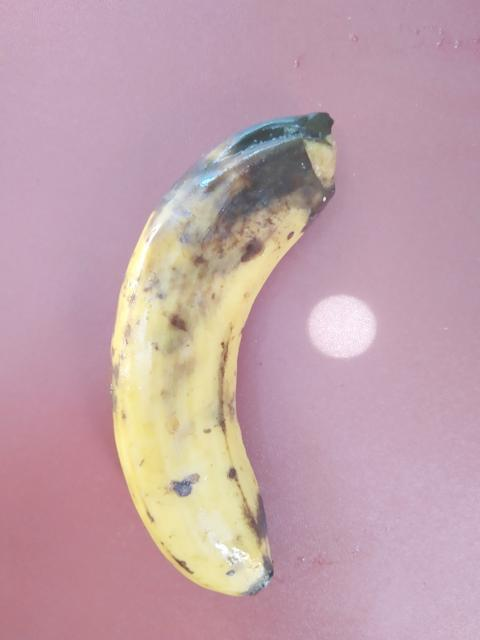rotten: (83, 95, 396, 620)
